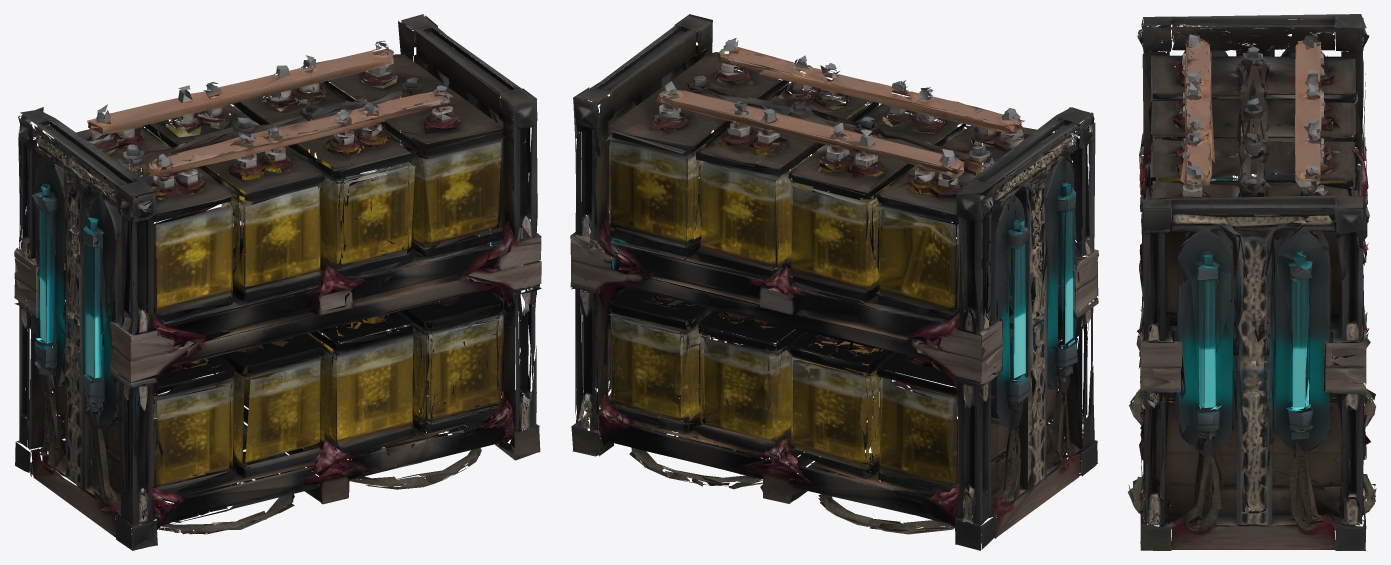
Rendered from prop_camp_meridian_battery_bank.glb.
The picture shows the model from 3 angles, left to right: view 1: azimuth 30°, elevation 25°; view 2: azimuth 150°, elevation 25°; view 3: azimuth 270°, elevation 25°; orthographic projection. The views are drawn at different scales.
Visible parts, largest first — view 1: node_0; view 2: node_0; view 3: node_0.
Part boxes in pixels (x1=…): node_0: x1=14, y1=14, x2=541, y2=550; node_0: x1=570, y1=14, x2=1098, y2=550; node_0: x1=1128, y1=14, x2=1376, y2=550.
Size of the model in its own units: 0.9139 by 0.7481 by 0.4692.
Materials: 1 (1 with a texture image).
